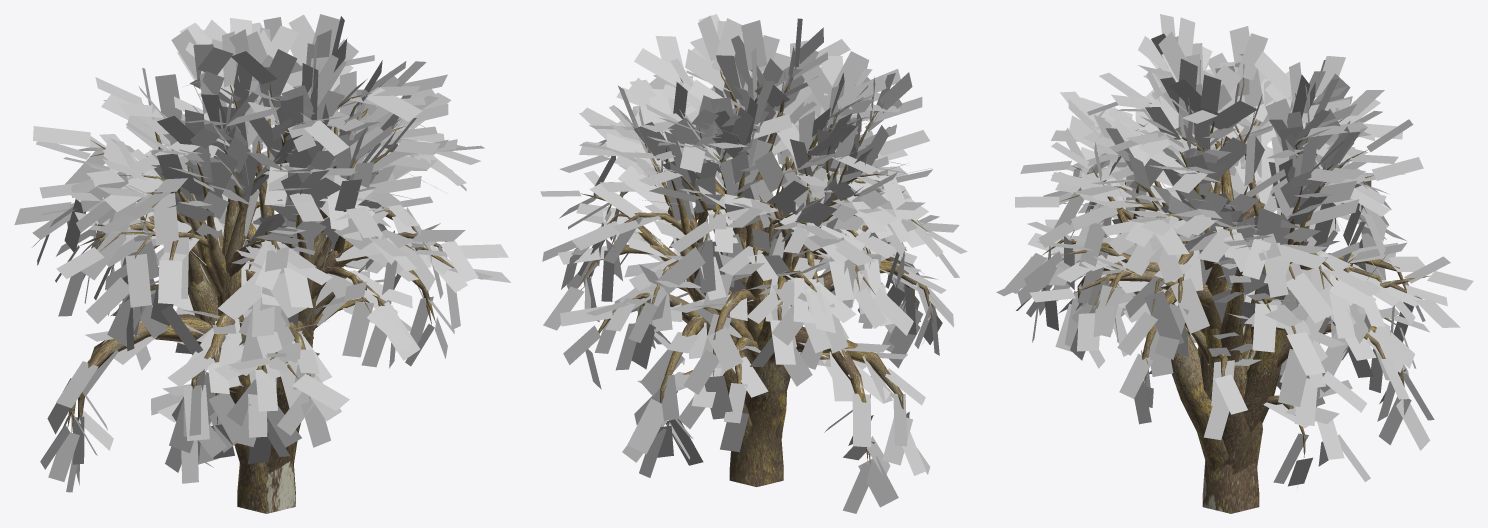
Rendered from Swamp1Trees.fbx.
3 renders of one model, left to right at view 1: azimuth 30°, elevation 25°; view 2: azimuth 150°, elevation 25°; view 3: azimuth 270°, elevation 25°, orthographic. The views are drawn at different scales.
Visible parts, largest first — view 1: SwampTree1Leaves_LOD0, SwampTree1_LOD0; view 2: SwampTree1Leaves_LOD0, SwampTree1_LOD0; view 3: SwampTree1Leaves_LOD0, SwampTree1_LOD0.
Boxes of the visible parts, box(x1,y1,x2,y2) form: SwampTree1Leaves_LOD0: box(14, 14, 510, 492); SwampTree1_LOD0: box(67, 82, 454, 513); SwampTree1Leaves_LOD0: box(540, 14, 967, 513); SwampTree1_LOD0: box(576, 64, 937, 487); SwampTree1Leaves_LOD0: box(996, 14, 1473, 487); SwampTree1_LOD0: box(1042, 64, 1430, 513).
Size of what is drawn, in the model's own units: 6.36 by 6.9 by 6.49.
